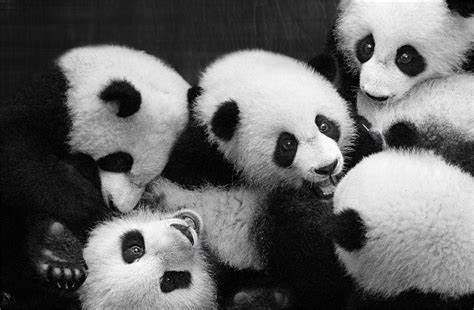panda: (301, 128, 474, 302), (14, 36, 189, 191), (179, 45, 361, 192), (52, 204, 253, 304), (327, 4, 474, 93)
